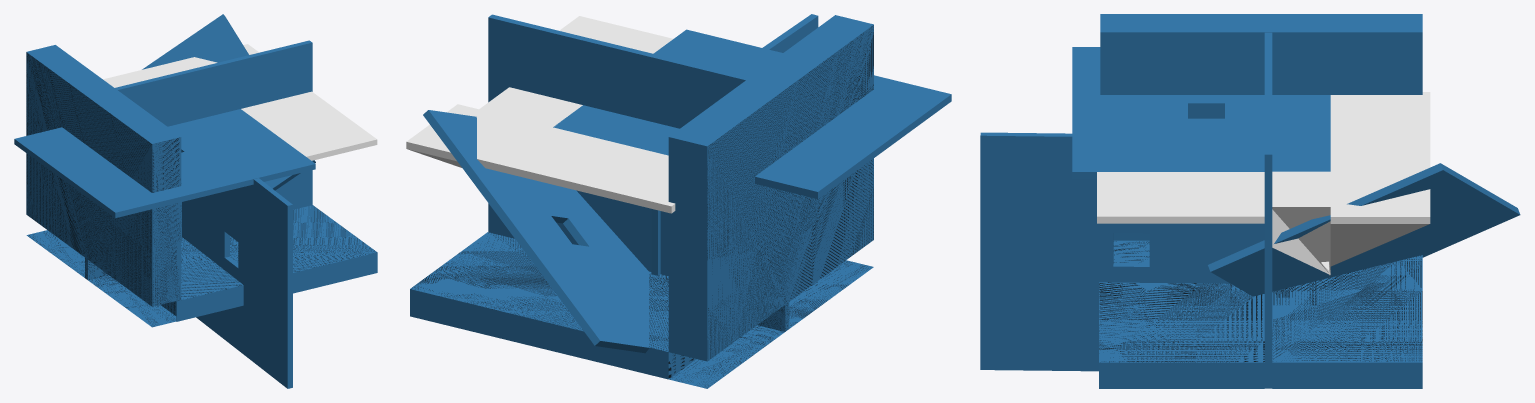
File: Twistycooler_env.dae
3 views of the same model, side by side, from view 1: azimuth 30°, elevation 25°; view 2: azimuth 150°, elevation 25°; view 3: azimuth 270°, elevation 25° (orthographic). The views are drawn at different scales.
Visible parts, largest first — view 1: SketchUp (×9), Env (×4); view 2: SketchUp (×9), Env (×4); view 3: SketchUp (×8), Env (×4).
Boxes of the visible parts, bbox=[...] form: SketchUp (×9): bbox=[26, 44, 377, 327]; Env (×4): bbox=[14, 14, 315, 388]; SketchUp (×9): bbox=[406, 15, 873, 388]; Env (×4): bbox=[423, 14, 951, 353]; SketchUp (×8): bbox=[1097, 14, 1430, 388]; Env (×4): bbox=[980, 32, 1520, 388].
Size of the model in its own units: 538 by 721 by 438.
